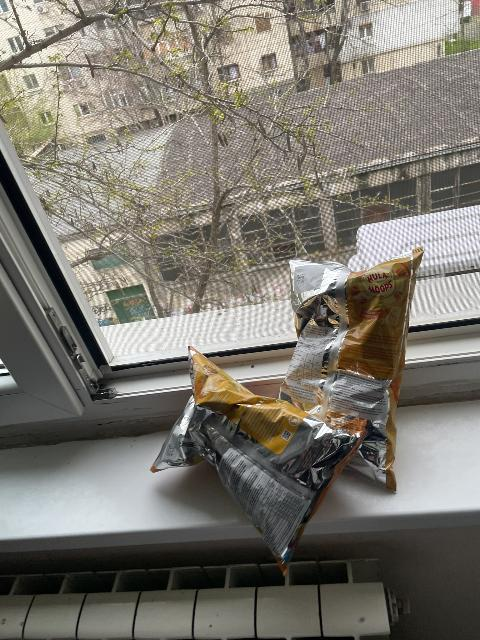Chio Cascaval 125g: (152, 340, 365, 576)
Chio Hula Hoops Cheese 70g: (287, 254, 418, 490)
